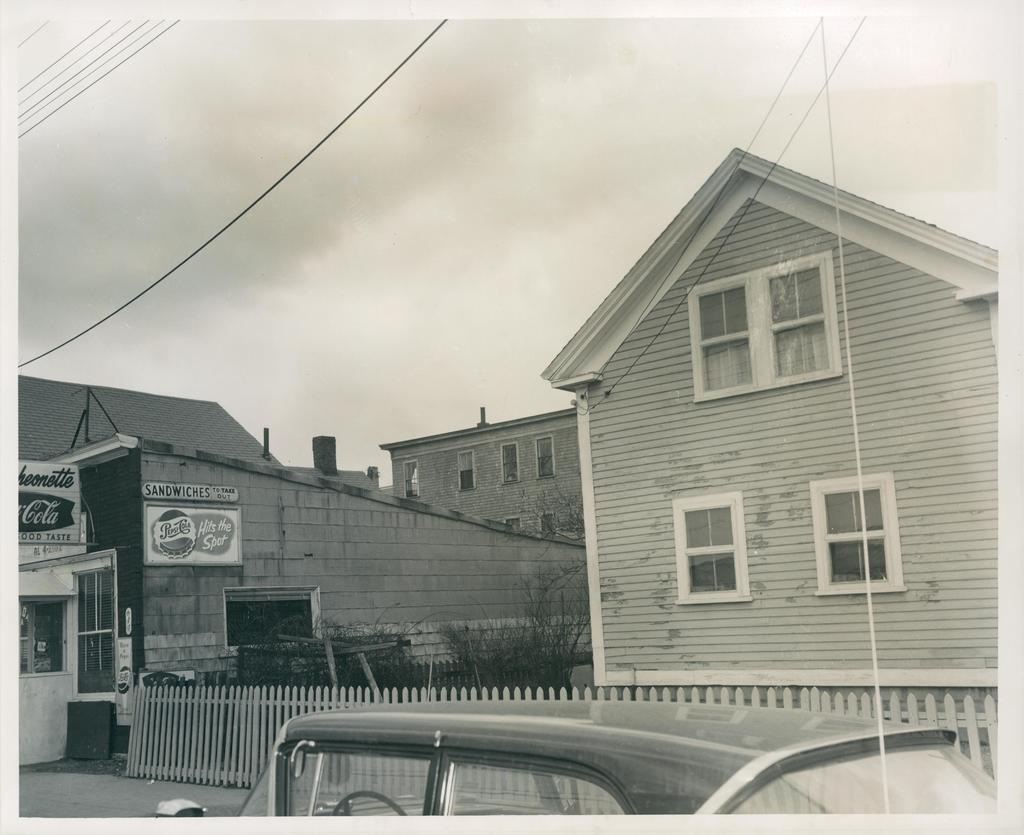cars: (178, 669, 973, 834)
